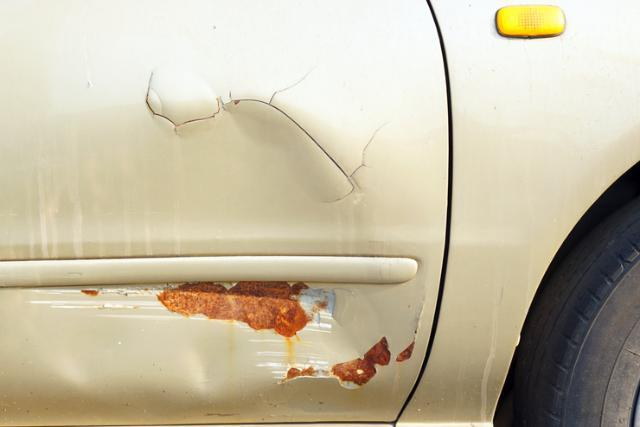Door: (25, 46, 427, 416)
